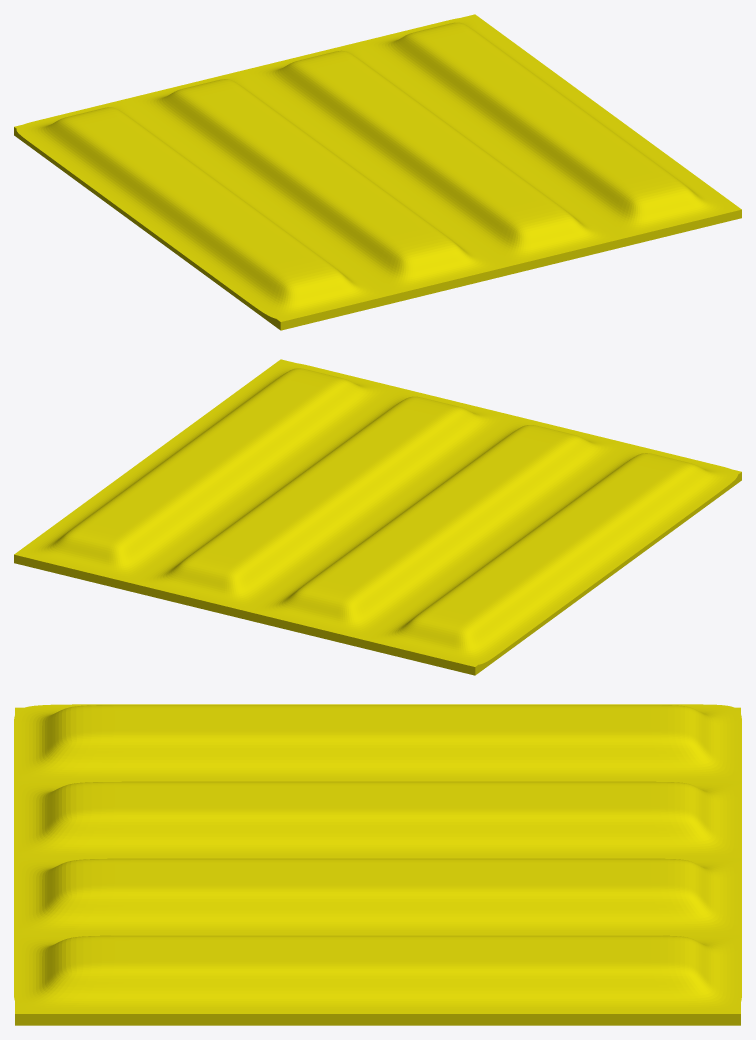
File: tenzibou.fbx
3 renders of one model, top to bottom at view 1: azimuth 30°, elevation 25°; view 2: azimuth 150°, elevation 25°; view 3: azimuth 270°, elevation 25°, orthographic. The views are drawn at different scales.
Parts seen in each view (by area): view 1: Plane.001, Cube; view 2: Plane.001, Cube; view 3: Plane.001, Cube.
Part boxes in pixels (<box>): Plane.001: <box>16,17,731,319</box>; Cube: <box>14,14,741,330</box>; Plane.001: <box>23,363,737,664</box>; Cube: <box>14,359,741,675</box>; Plane.001: <box>14,704,741,1011</box>; Cube: <box>15,707,740,1025</box>.
Bounding box in the file's own units: 502 × 26.42 × 500.
